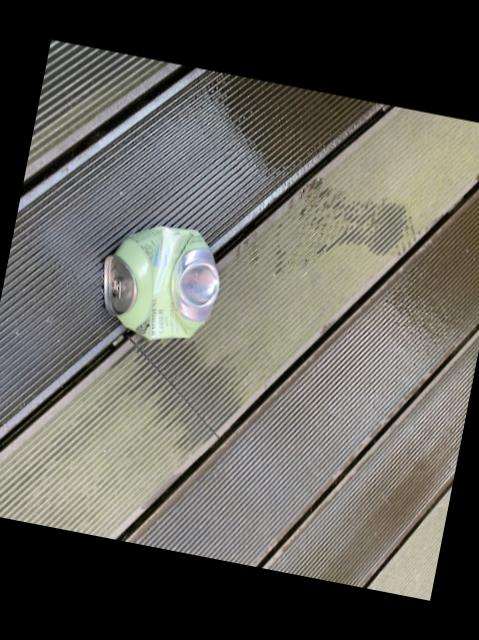metal: (101, 225, 217, 339)
